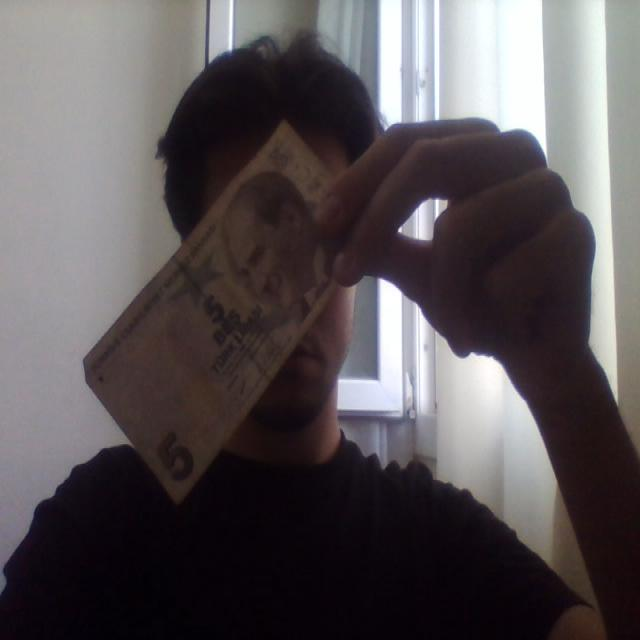5-TL: (78, 117, 365, 509)
